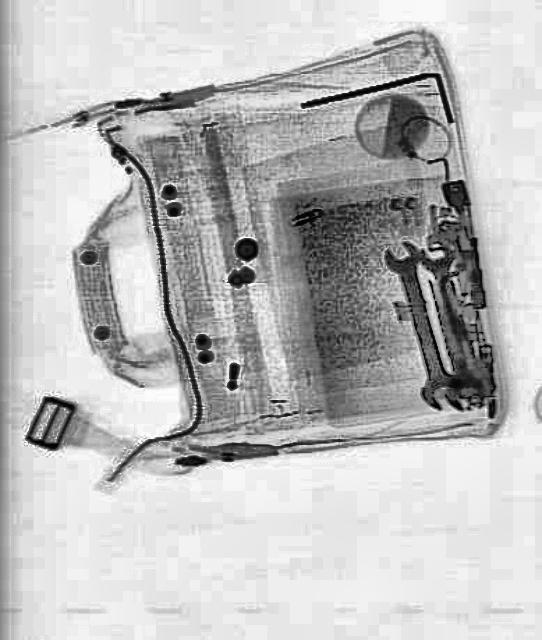Wrench: (374, 233, 468, 412), (413, 238, 486, 412)
